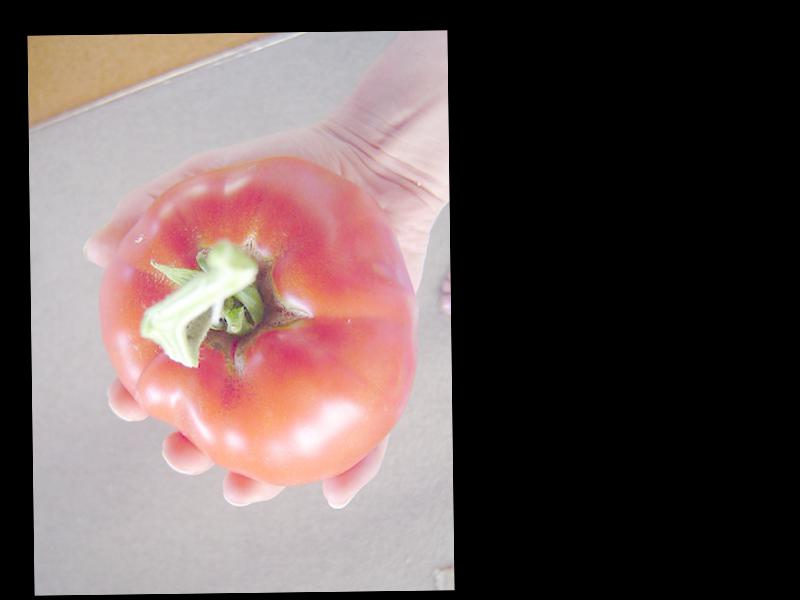Tomato: (96, 155, 418, 487)
